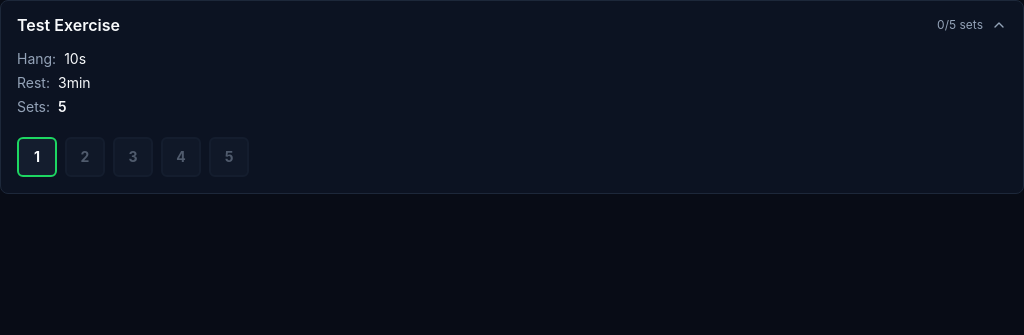
ExerciseBlock - Sequential Set Logic › Hang Timer for TimeBased exercises › clicking set shows Start button (hang waiting state)
Step 1. Click the button named "Set 1" → click(37, 157), box x1=17 y1=137 x2=57 y2=177
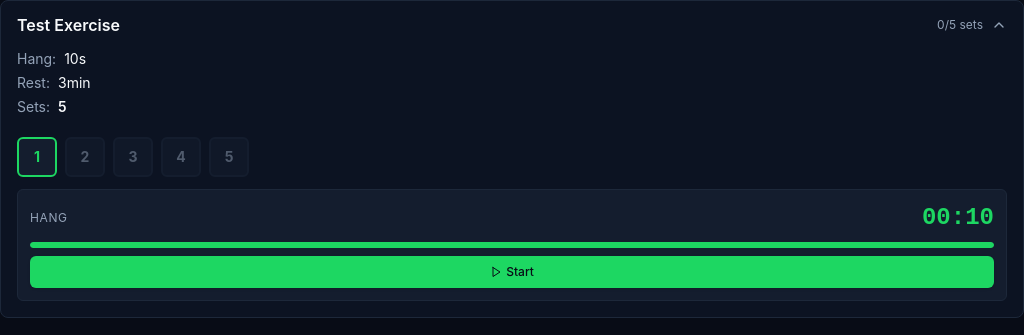
Result: the text "HANG" is shown at x1=30 y1=210 x2=68 y2=226
Result: the button "Start" is shown at x1=30 y1=256 x2=994 y2=288
